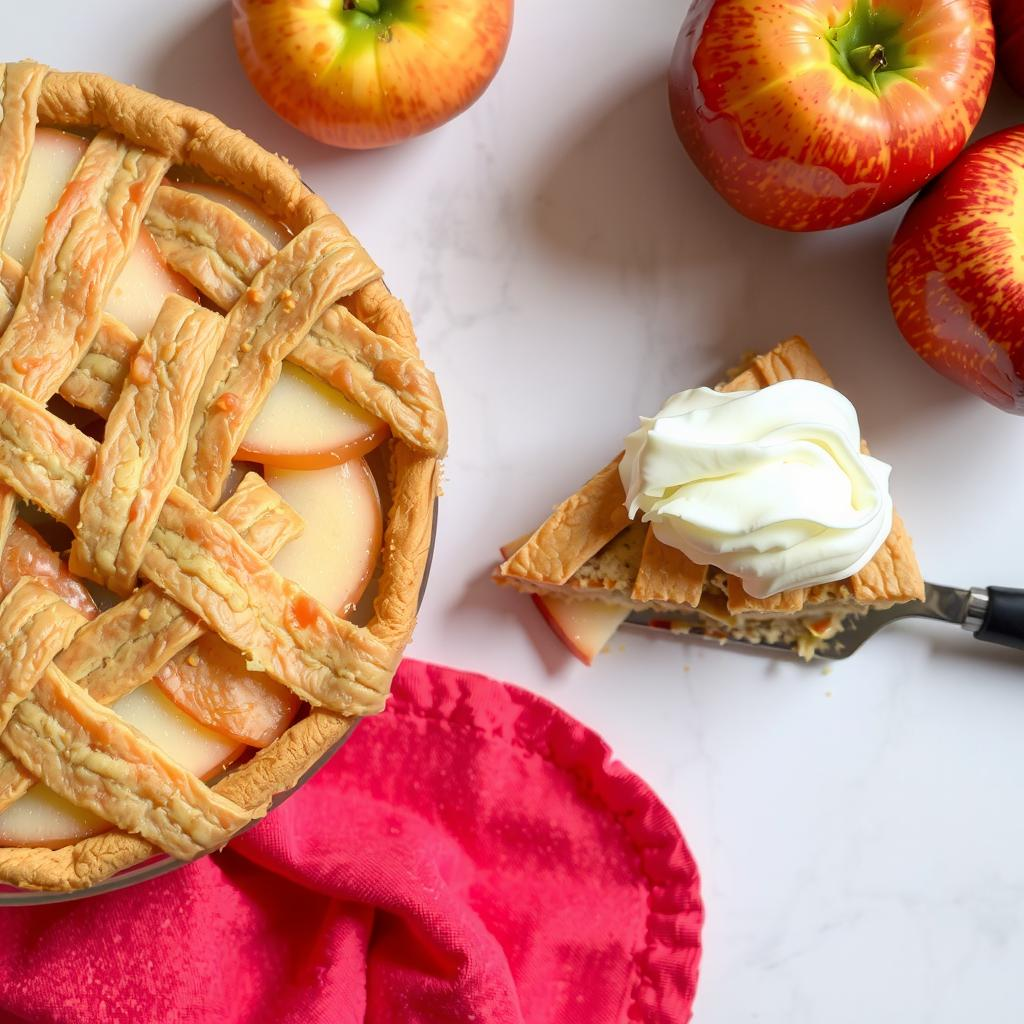pie: (0, 49, 456, 919)
